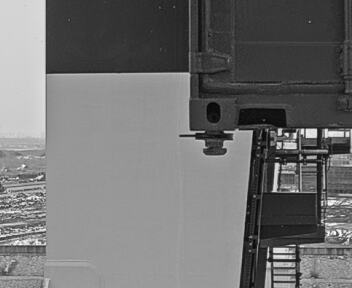twist_lock_1: (189, 124, 237, 163)
